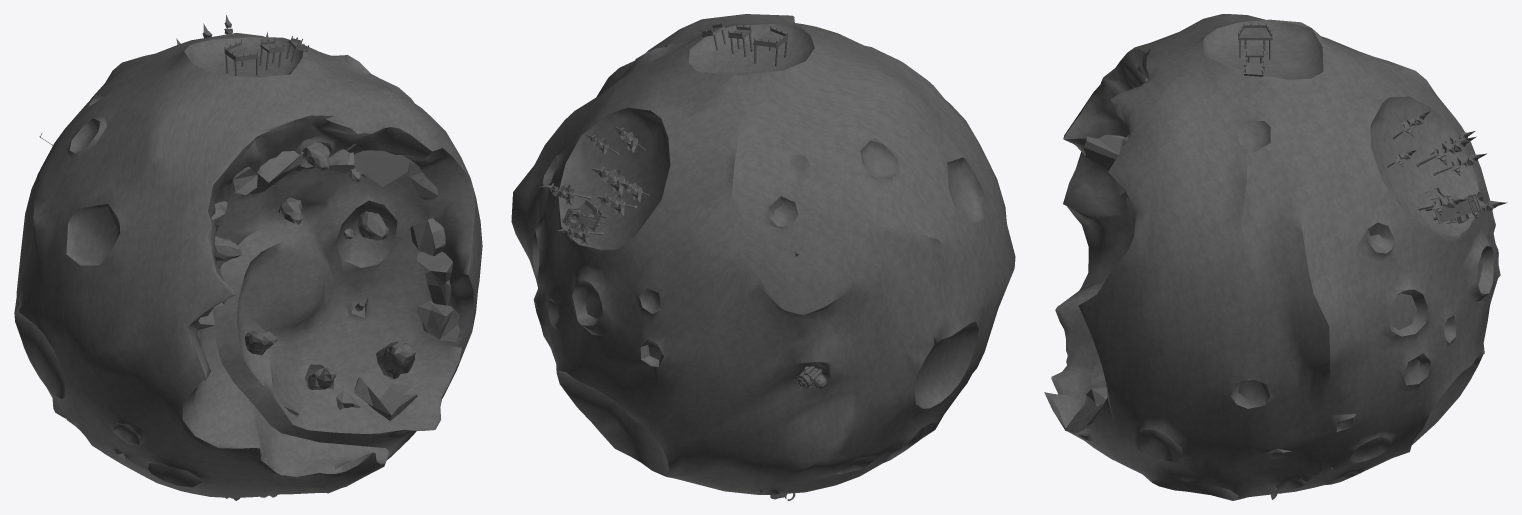
The model's file is Proxy_THM.glb.
The picture shows the model from 3 angles, left to right: view 1: azimuth 30°, elevation 25°; view 2: azimuth 150°, elevation 25°; view 3: azimuth 270°, elevation 25°; orthographic projection. The views are drawn at different scales.
Visible parts, largest first — view 1: Terrain_THM_Proxy_Body, Terrain_THM_Proxy_Structures; view 2: Terrain_THM_Proxy_Body, Terrain_THM_Proxy_Structures; view 3: Terrain_THM_Proxy_Body, Terrain_THM_Proxy_Structures.
Part boxes in pixels (left/top/right/bottom): Terrain_THM_Proxy_Body: left=14, top=33, right=482, bottom=497; Terrain_THM_Proxy_Structures: left=39, top=15, right=462, bottom=500; Terrain_THM_Proxy_Body: left=511, top=14, right=1015, bottom=494; Terrain_THM_Proxy_Structures: left=540, top=21, right=826, bottom=500; Terrain_THM_Proxy_Body: left=1044, top=14, right=1500, bottom=500; Terrain_THM_Proxy_Structures: left=1083, top=23, right=1507, bottom=499.
Bounding box in the file's own units: 157 × 157 × 146.
2 materials, 2 textured.
